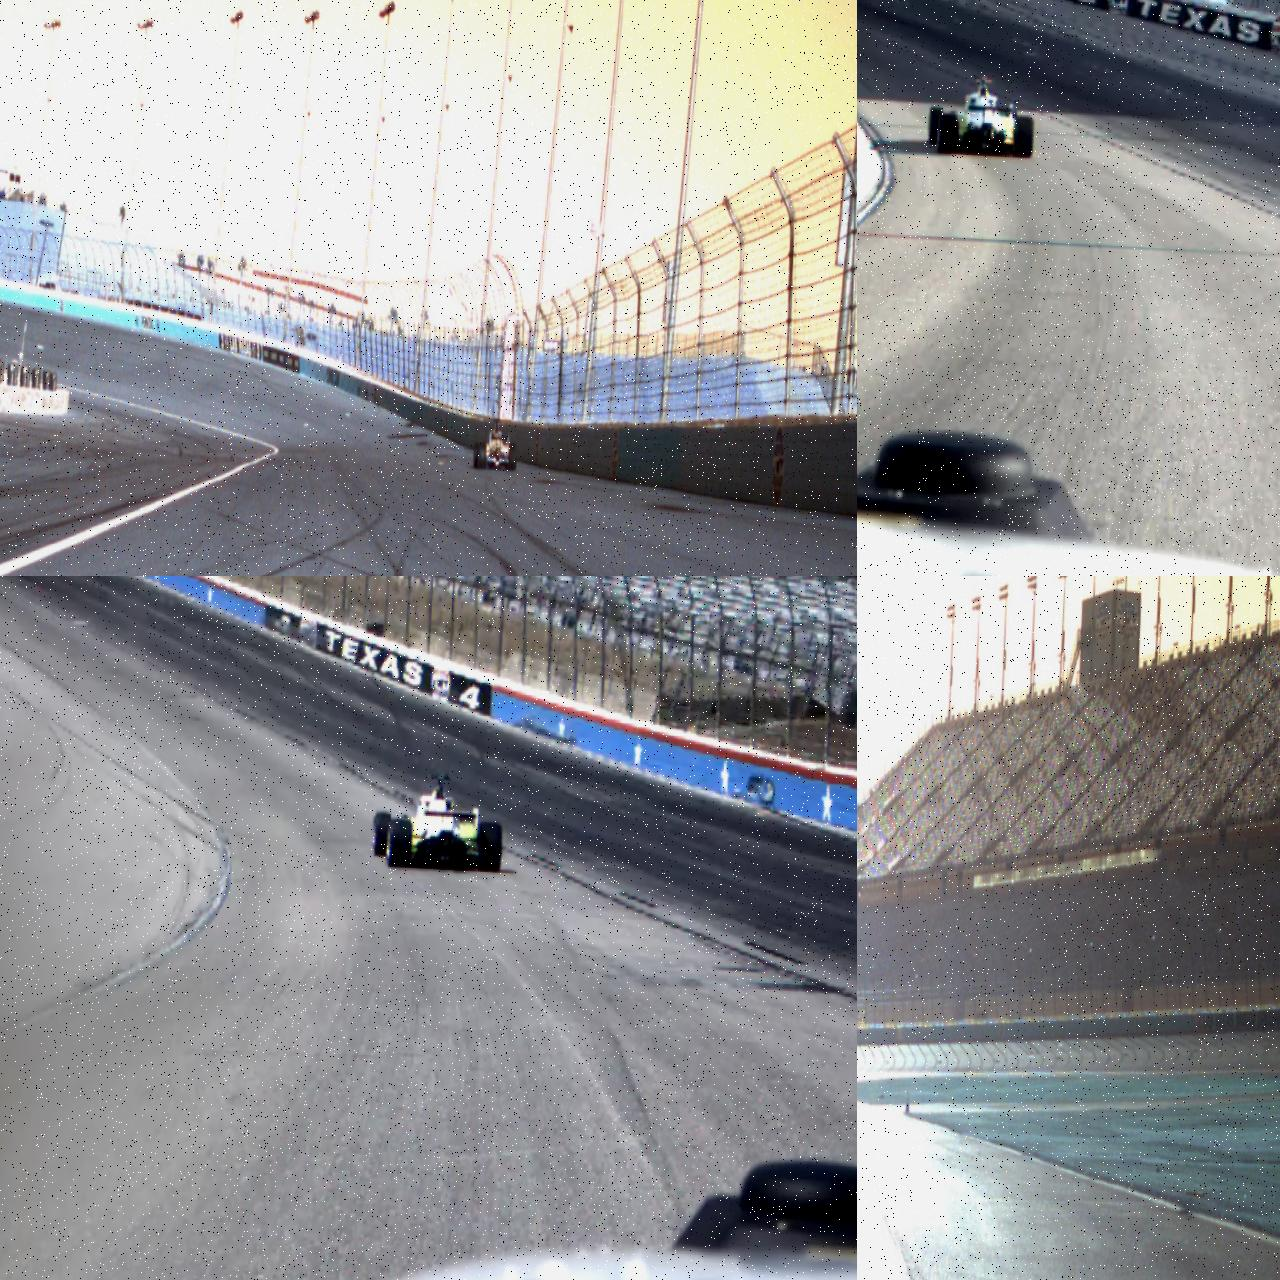AV: (370, 769, 506, 874), (927, 74, 1036, 159), (472, 417, 518, 471)
Wheel: (384, 818, 413, 869), (477, 821, 504, 872), (372, 810, 392, 857), (937, 113, 959, 154), (1013, 116, 1034, 158), (928, 107, 942, 144), (508, 443, 517, 470), (477, 443, 486, 469), (474, 443, 479, 468)
